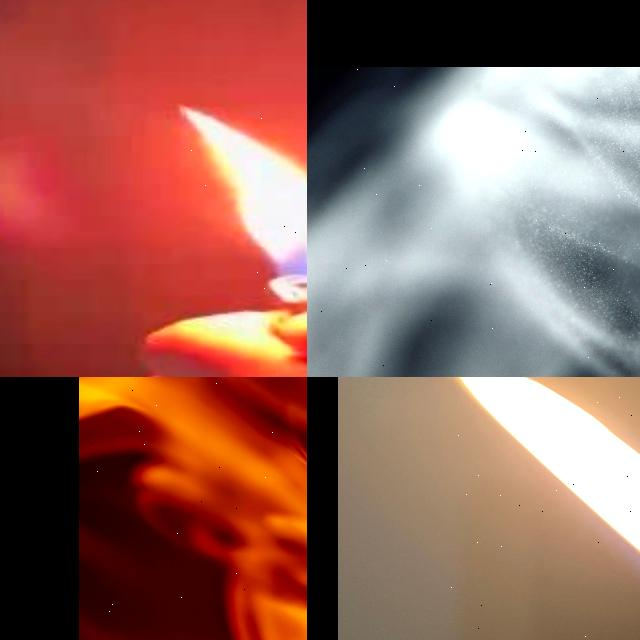fire: (78, 377, 307, 640), (457, 377, 640, 554), (184, 108, 307, 306)
smoke: (307, 68, 640, 377)
